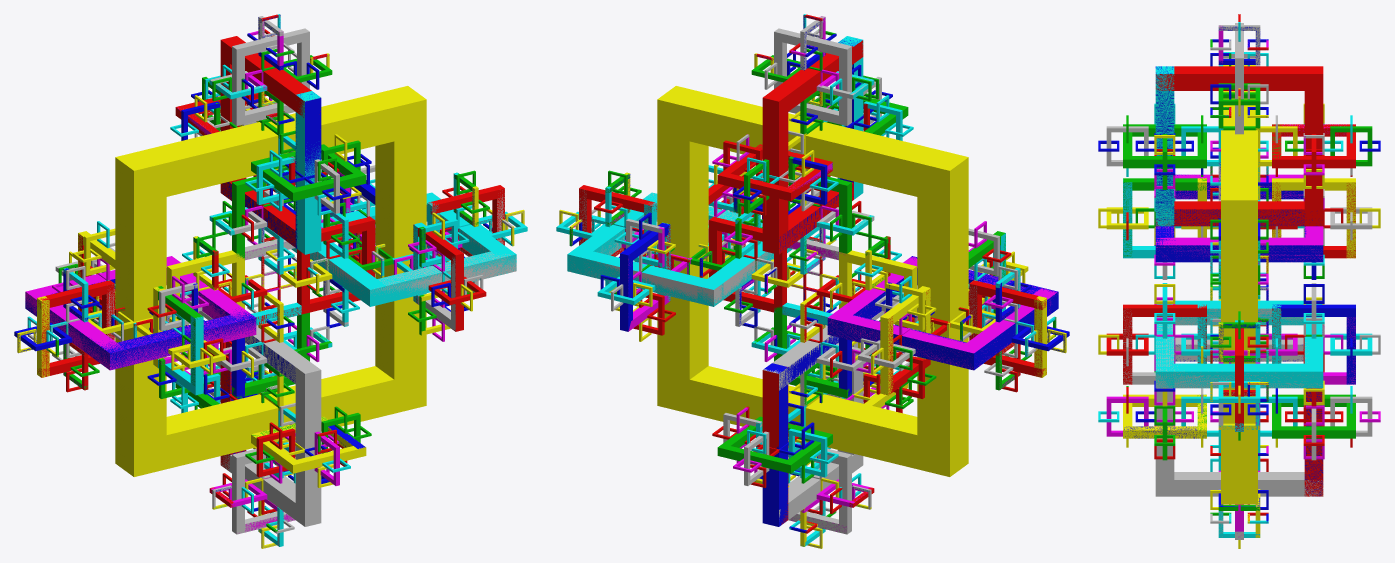
File: square_fractal.obj
The picture shows the model from 3 angles, left to right: view 1: azimuth 30°, elevation 25°; view 2: azimuth 150°, elevation 25°; view 3: azimuth 270°, elevation 25°; orthographic projection.
Visible parts, largest first — view 1: fractal, fractal.505, fractal.173, fractal.001, fractal.282, fractal.345, fractal.110, fractal.347, fractal.056, fractal.346, fractal.455, fractal.614 (+20 smaller); view 2: fractal, fractal.345, fractal.001, fractal.282, fractal.173, fractal.504, fractal.505, fractal.110, fractal.056, fractal.641, fractal.478, fractal.348 (+18 smaller); view 3: fractal, fractal.345, fractal.001, fractal.505, fractal.282, fractal.173, fractal.347, fractal.110, fractal.346, fractal.455, fractal.478, fractal.641 (+34 smaller).
Part boxes in pixels (x1=…): fractal: x1=115, y1=86, x2=426, y2=476; fractal.505: x1=221, y1=325, x2=321, y2=526; fractal.173: x1=25, y1=256, x2=256, y2=370; fractal.001: x1=291, y1=192, x2=516, y2=306; fractal.282: x1=25, y1=279, x2=256, y2=369; fractal.345: x1=220, y1=36, x2=320, y2=247; fractal.110: x1=291, y1=205, x2=516, y2=298; fractal.347: x1=295, y1=91, x2=321, y2=254; fractal.056: x1=297, y1=217, x2=374, y2=314; fractal.346: x1=221, y1=92, x2=321, y2=248; fractal.455: x1=251, y1=144, x2=366, y2=201; fractal.614: x1=251, y1=416, x2=366, y2=473; fractal: x1=657, y1=86, x2=968, y2=476; fractal.345: x1=762, y1=40, x2=863, y2=254; fractal.001: x1=567, y1=192, x2=792, y2=306; fractal.282: x1=827, y1=256, x2=1058, y2=370; fractal.173: x1=827, y1=256, x2=1057, y2=369; fractal.504: x1=762, y1=336, x2=838, y2=526; fractal.505: x1=763, y1=325, x2=863, y2=519; fractal.110: x1=569, y1=193, x2=789, y2=306; fractal.056: x1=709, y1=217, x2=786, y2=312; fractal.641: x1=717, y1=416, x2=832, y2=473; fractal.478: x1=717, y1=144, x2=832, y2=201; fractal.348: x1=774, y1=28, x2=851, y2=125; fractal: x1=1221, y1=58, x2=1257, y2=504; fractal.345: x1=1155, y1=66, x2=1323, y2=226; fractal.001: x1=1155, y1=300, x2=1323, y2=388; fractal.505: x1=1155, y1=337, x2=1323, y2=496; fractal.282: x1=1155, y1=174, x2=1323, y2=262; fractal.173: x1=1155, y1=174, x2=1323, y2=262; fractal.347: x1=1155, y1=66, x2=1174, y2=226; fractal.110: x1=1155, y1=304, x2=1322, y2=388; fractal.346: x1=1155, y1=66, x2=1316, y2=226; fractal.455: x1=1123, y1=124, x2=1206, y2=168; fractal.478: x1=1272, y1=124, x2=1355, y2=168; fractal.641: x1=1272, y1=394, x2=1355, y2=438.
Size of the model in its own units: 12.45 by 12.45 by 6.05.
